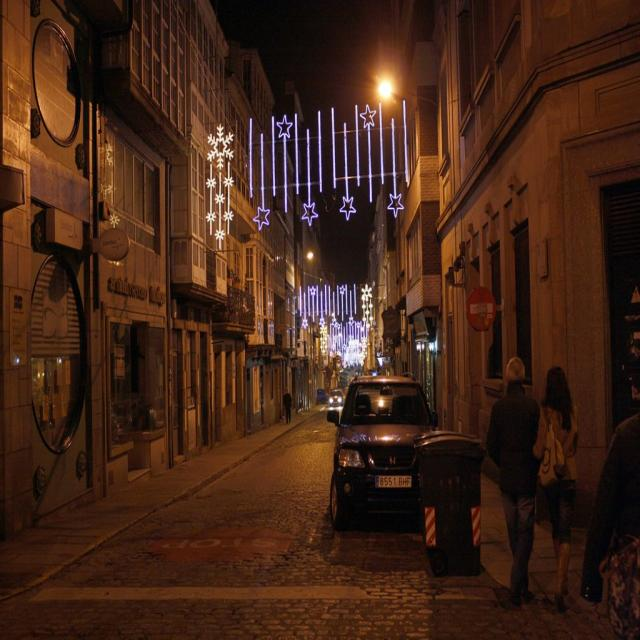Car: (323, 381, 450, 529)
